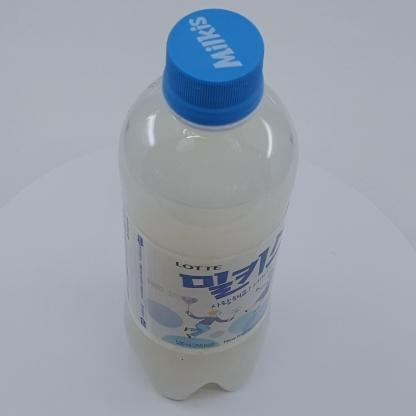-----500ML: (118, 8, 299, 400)
